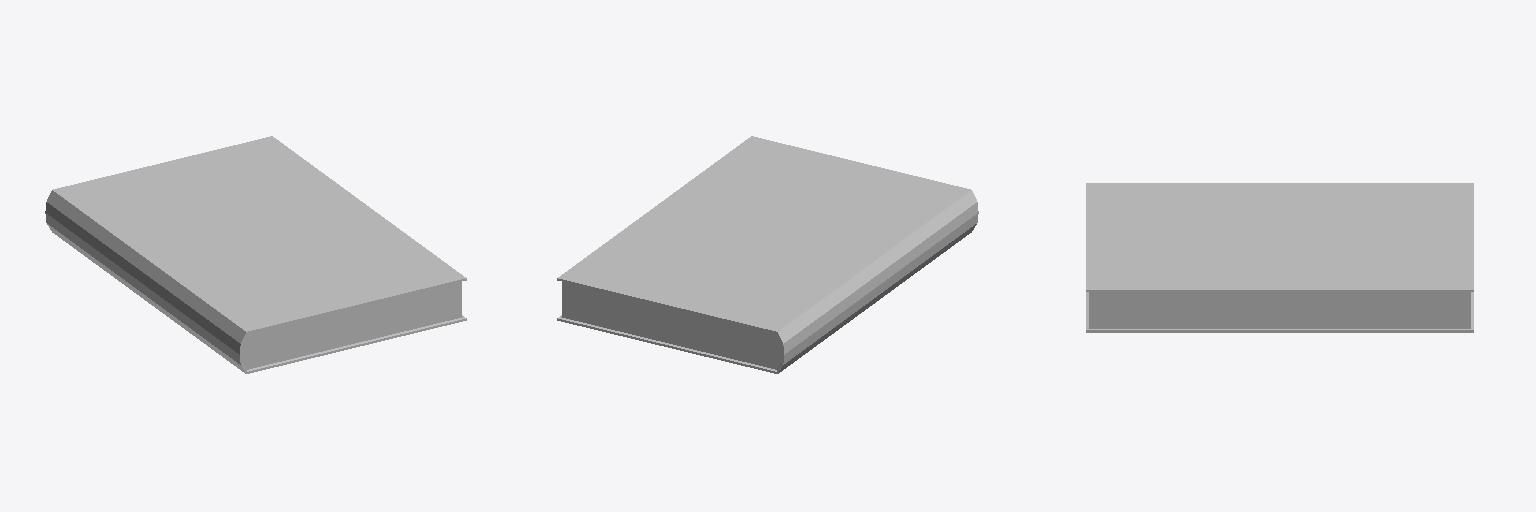
The model's file is hpbook.obj.
3 views of the same model, side by side, from view 1: azimuth 30°, elevation 25°; view 2: azimuth 150°, elevation 25°; view 3: azimuth 270°, elevation 25° (orthographic).
Visible parts, largest first — view 1: Plane; view 2: Plane; view 3: Plane.
Boxes of the visible parts, x1,y1,x2,y2 form: Plane: [45, 136, 466, 373]; Plane: [557, 136, 978, 373]; Plane: [1086, 183, 1473, 332].
Bounding box in the file's own units: 4.15 × 0.7406 × 6.15.